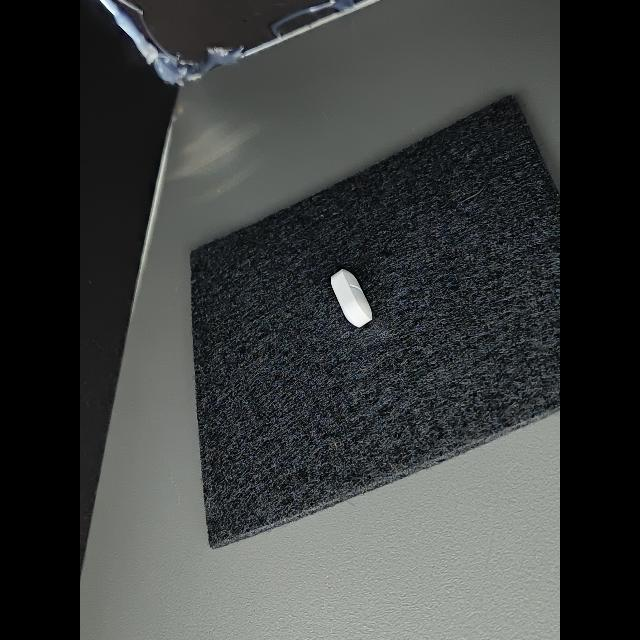Intact Pill: (331, 269, 372, 328)
